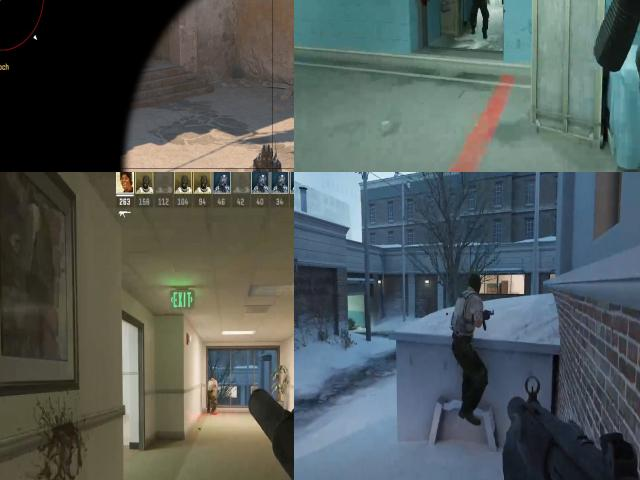CT: (252, 143, 282, 172)
CT-Head: (261, 144, 272, 167)
T: (451, 286, 488, 347), (206, 371, 219, 397)
T-Head: (464, 271, 488, 295)
